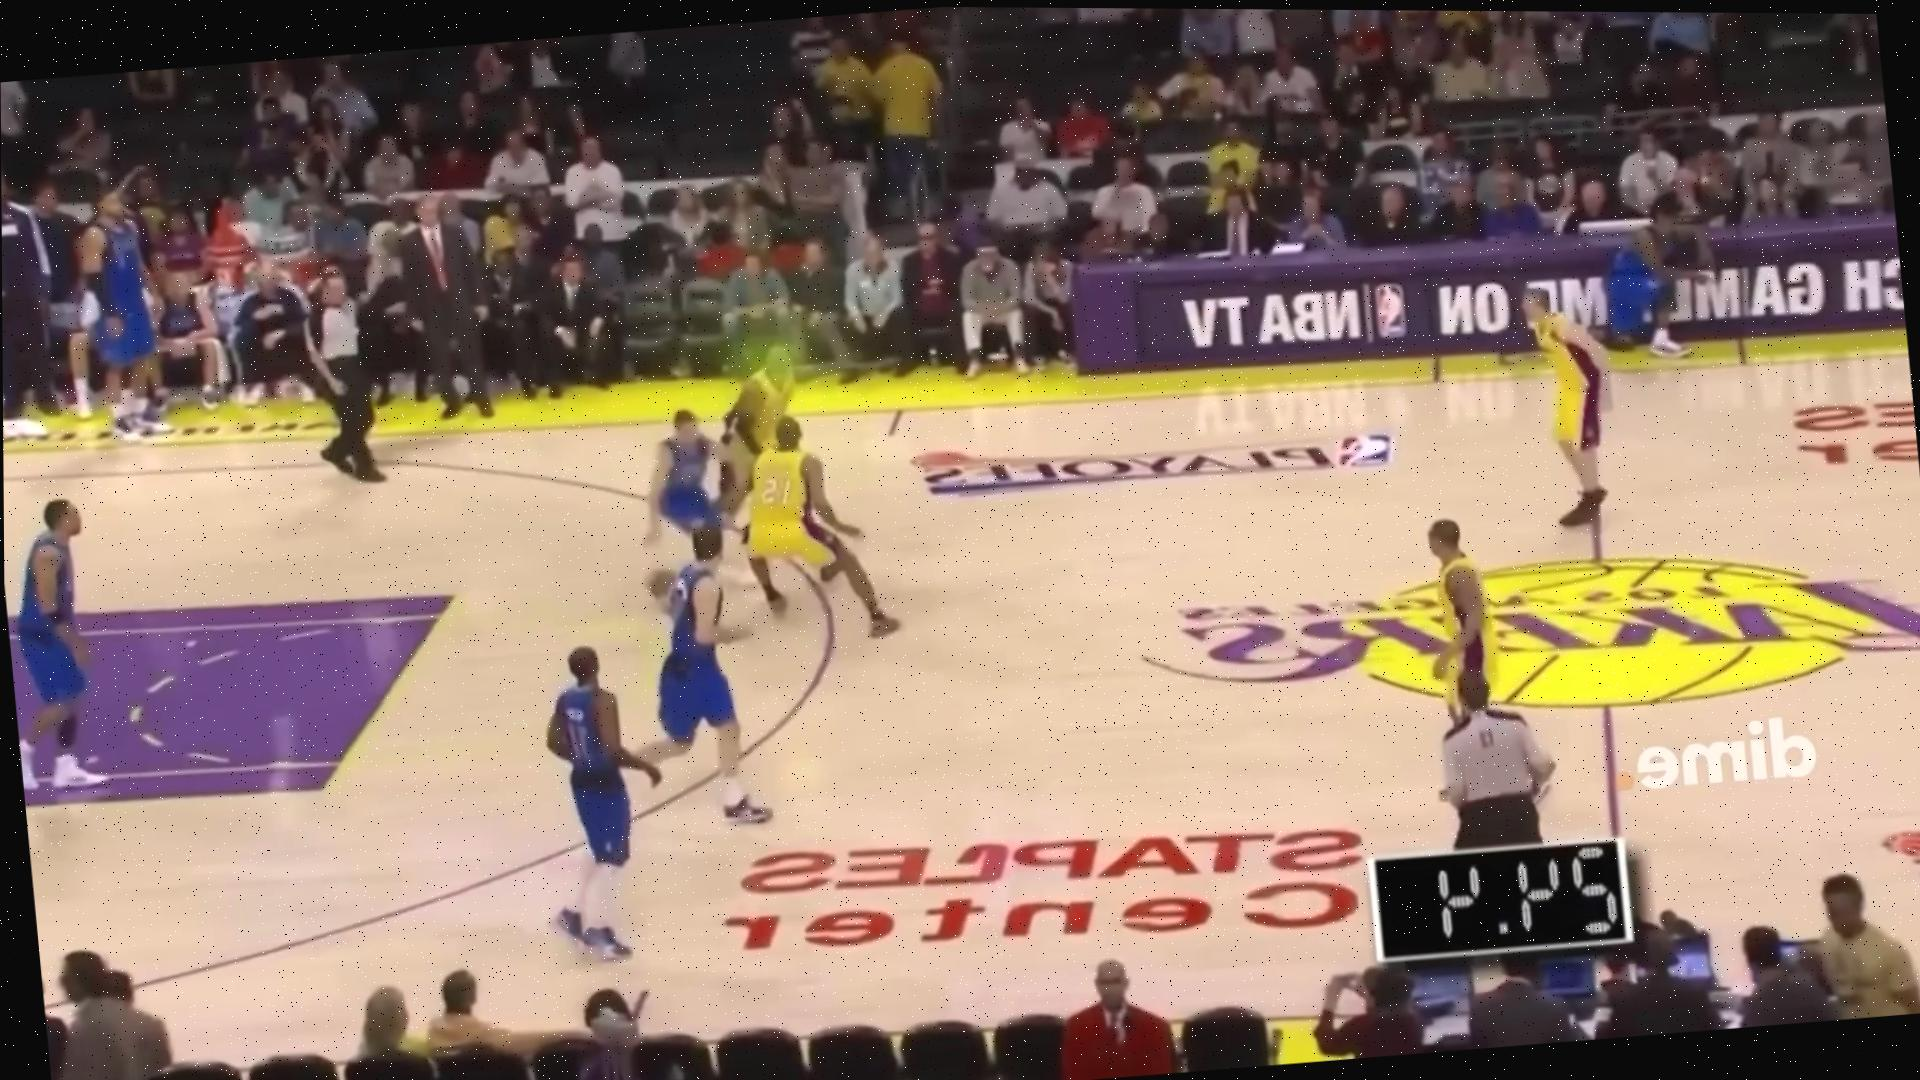no_foul: (625, 315, 894, 627)
